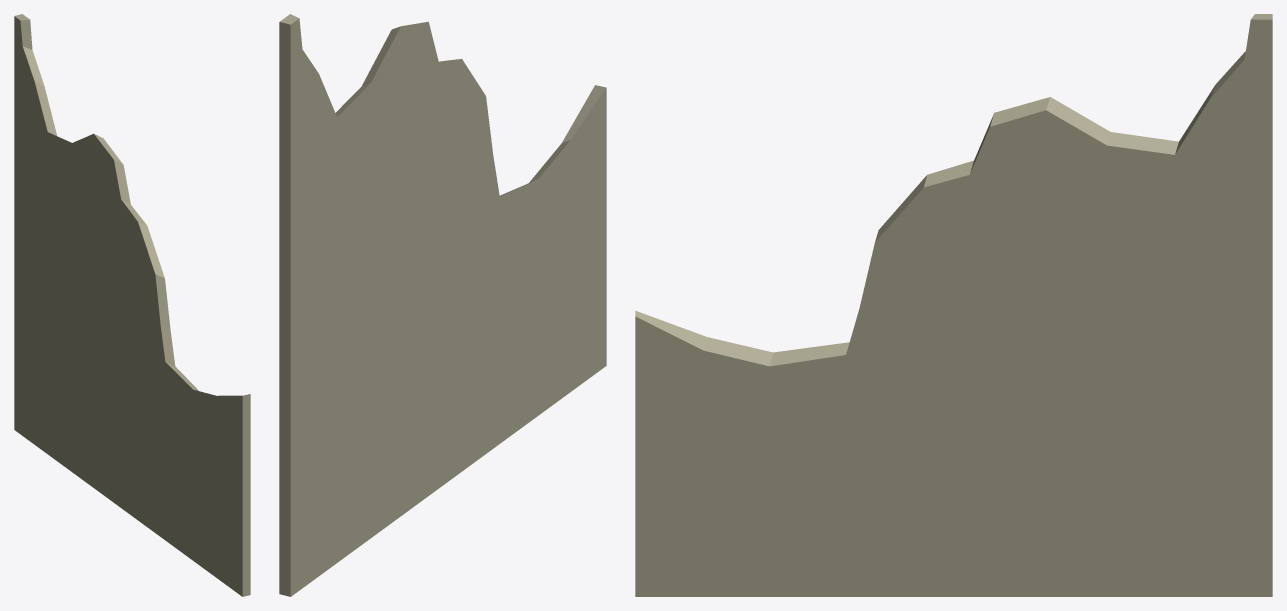
Rendered from Wallbroken4.fbx.
3 views of the same model, side by side, from view 1: azimuth 30°, elevation 25°; view 2: azimuth 150°, elevation 25°; view 3: azimuth 270°, elevation 25° (orthographic). The views are drawn at different scales.
Parts seen in each view (by area): view 1: Wallbroken4; view 2: Wallbroken4; view 3: Wallbroken4.
Boxes of the visible parts, bbox=[...] form: Wallbroken4: bbox=[14, 14, 250, 596]; Wallbroken4: bbox=[279, 14, 606, 596]; Wallbroken4: bbox=[635, 14, 1272, 596].
Bounding box in the file's own units: 0.25 × 12 × 12.
